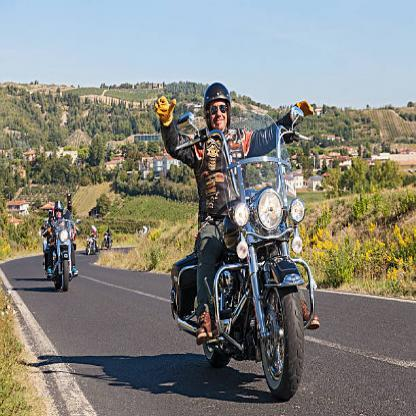Motorcycle: (178, 149, 322, 402), (36, 196, 82, 295)
